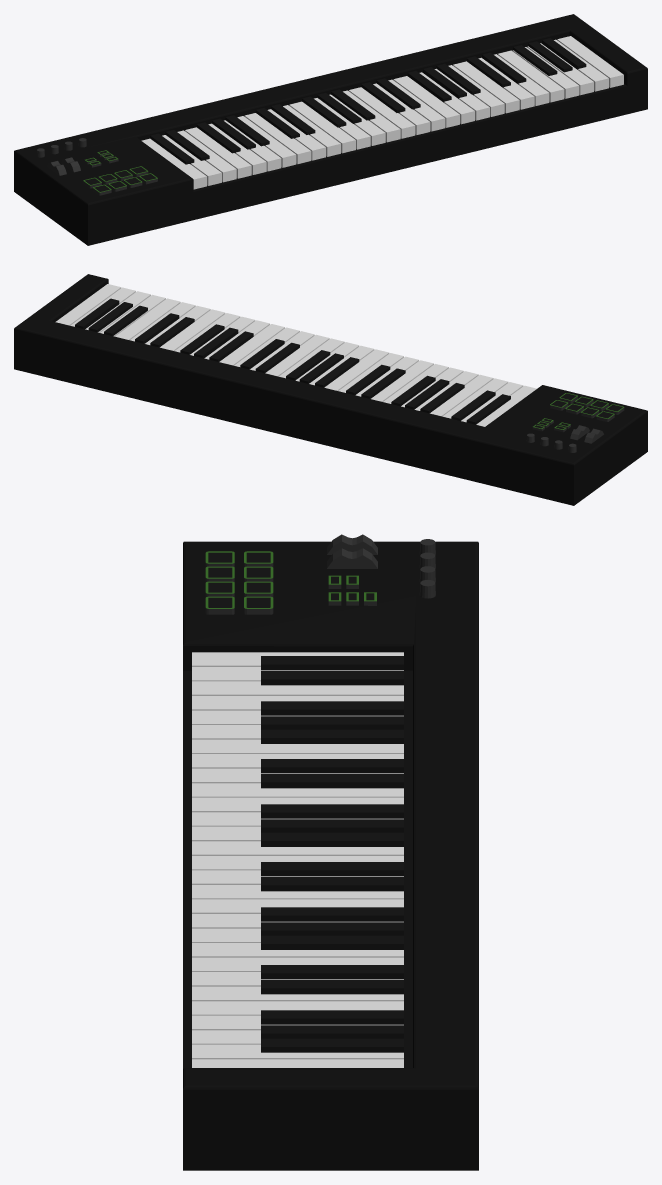
Rendered from Midi Keyboard04.fbx.
3 views of the same model, one above another, from view 1: azimuth 30°, elevation 25°; view 2: azimuth 150°, elevation 25°; view 3: azimuth 270°, elevation 25° (orthographic). The views are drawn at different scales.
Parts seen in each view (by area): view 1: 49keysmidi.005; view 2: 49keysmidi.005; view 3: 49keysmidi.005.
Boxes of the visible parts, x1,y1,x2,y2 form: 49keysmidi.005: [14, 14, 647, 245]; 49keysmidi.005: [14, 274, 647, 505]; 49keysmidi.005: [183, 534, 478, 1170].
Bounding box in the file's own units: 87.37 × 7.25 × 20.
